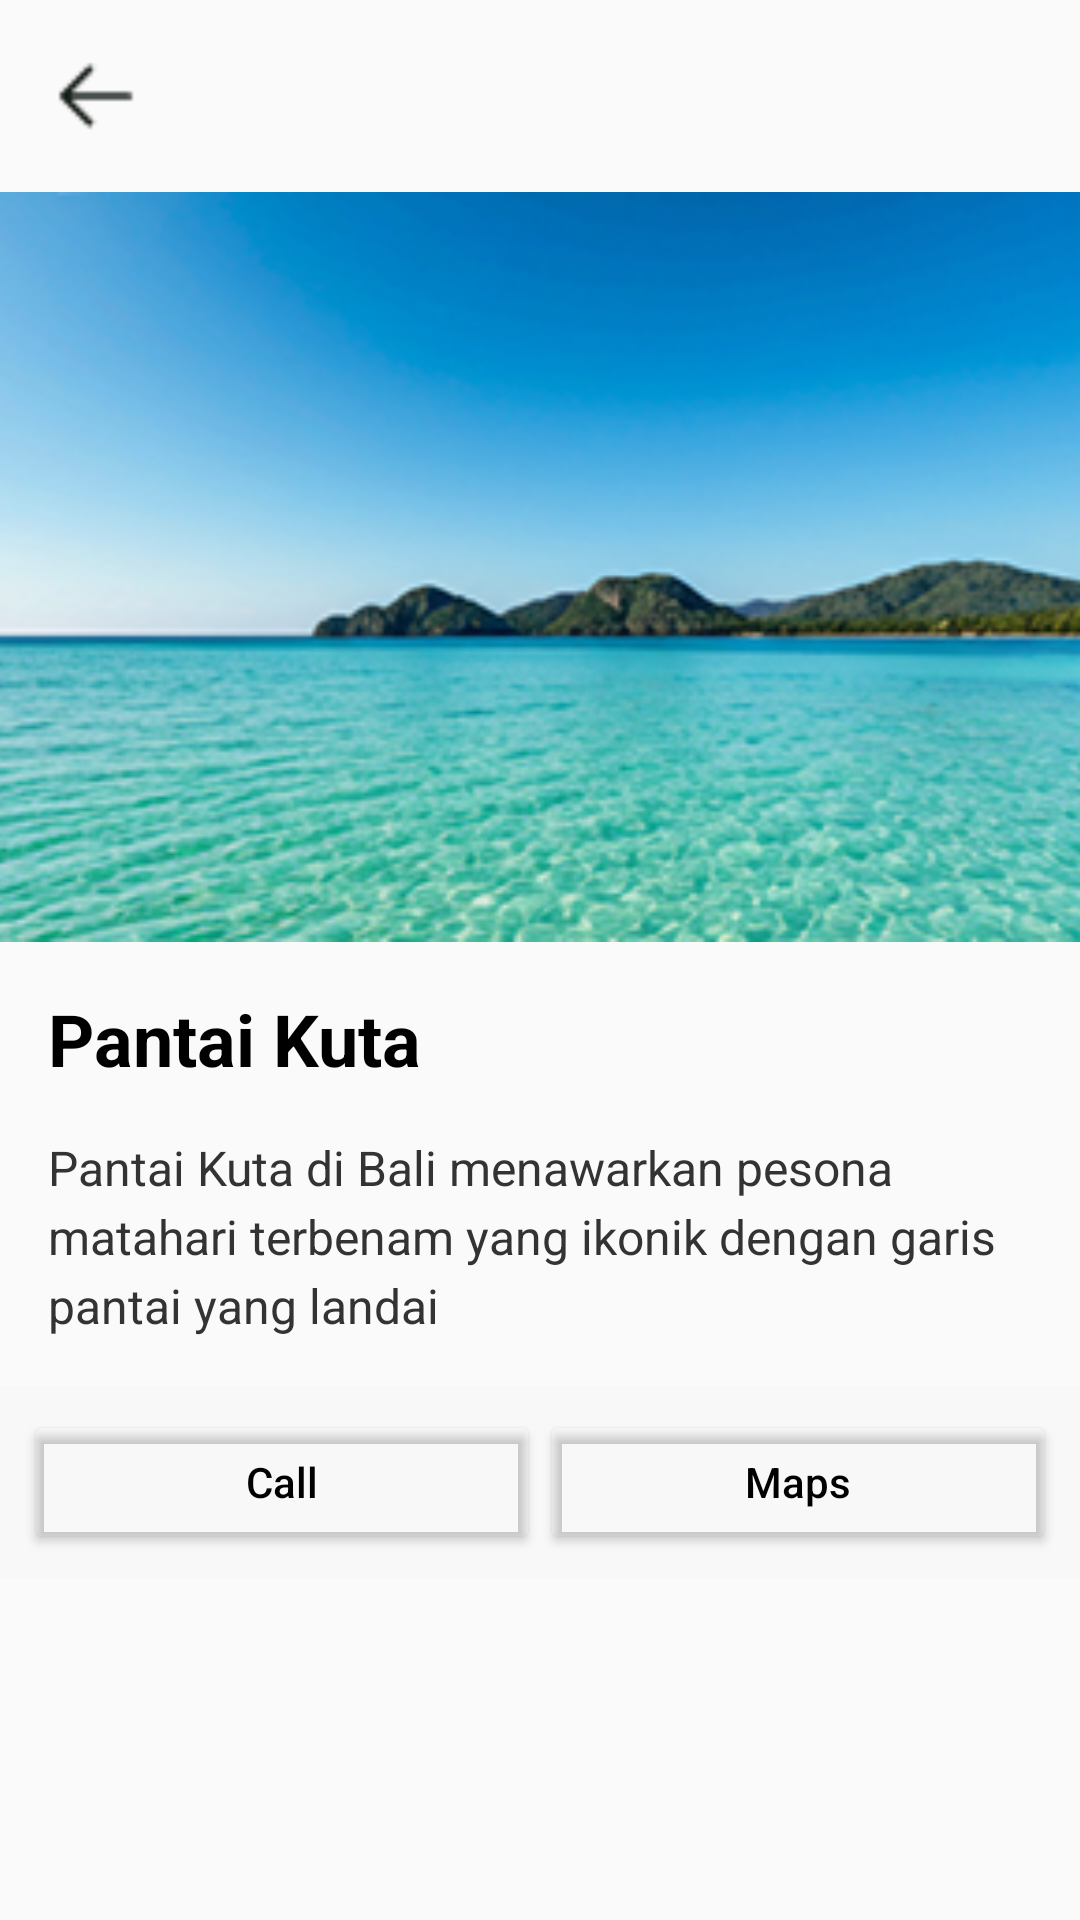

Where icons sit on this 1080 × 1920 app screen, as bbox(x1, y1, x2, y2):
kembali: bbox(59, 63, 133, 129)
